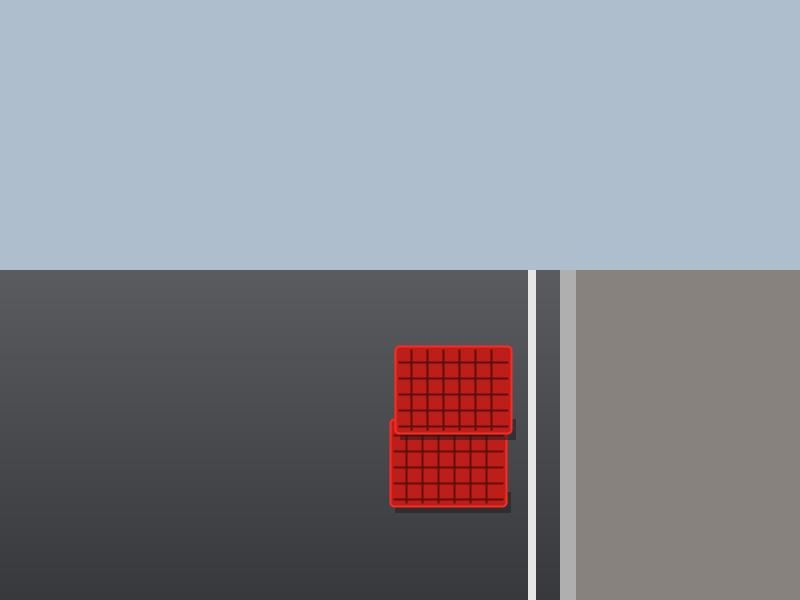ROAD_OBSTACLE: (390, 346, 506, 506)
